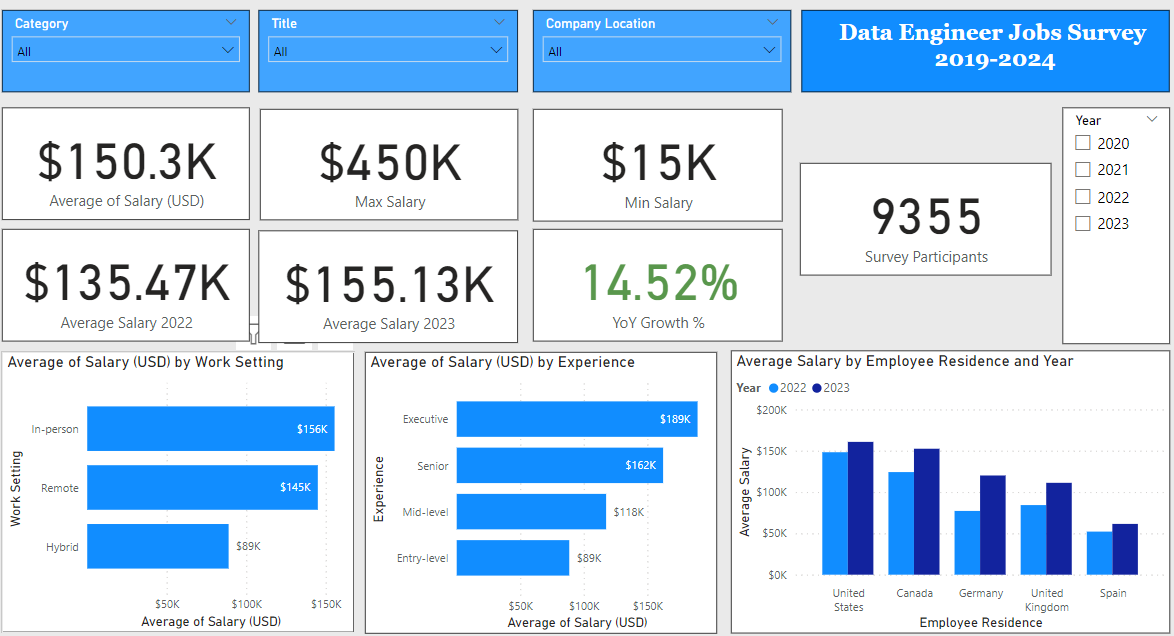

Layout of this report page (visuals, bound fields, positions):
{"tool":"powerbi","page":{"name":"KPI Dashboard","canvas":[1280,720],"ordinal":0},"visuals":[{"type":"slicer","fields":{"Values":["jobs_in_data.Category"]},"box":[10,28.6,267.1,88.6],"z":0},{"type":"slicer","fields":{"Values":["jobs_in_data.Title"]},"box":[287.1,28.6,280,88.6],"z":1000},{"type":"slicer","fields":{"Values":["jobs_in_data.Company Location"]},"box":[582.9,28.6,278.6,88.6],"z":2000},{"type":"barChart","fields":{"Y":["Avg(jobs_in_data.Salary (USD))"],"Category":["jobs_in_data.Work Setting"]},"box":[10,398.6,380,302.9],"z":3000},{"type":"card","fields":{"Values":["Avg(jobs_in_data.Salary (USD))"]},"box":[10,134.3,267.1,121.4],"z":4000},{"type":"card","fields":{"Values":["Measures (2).Max Salary"]},"box":[288,136.5,278.7,119.7],"z":5000},{"type":"clusteredColumnChart","fields":{"Category":["jobs_in_data.employee_residence"],"Y":["Measures (2).Average Salary"],"Series":["jobs_in_data.Year"]},"box":[796.2,397.5,473.8,305],"z":6000},{"type":"barChart","fields":{"Y":["Avg(jobs_in_data.Salary (USD))"],"Category":["jobs_in_data.Experience"]},"box":[402,398,380,304],"z":7000},{"type":"card","fields":{"Values":["Measures (2).Min Salary"]},"box":[583.6,136.5,269.3,121.6],"z":8000},{"type":"card","fields":{"Values":["Measures (2).Salary LY"]},"box":[10,265.7,267.1,121.4],"z":10000},{"type":"card","fields":{"Values":["Measures (2).Salary CY"]},"box":[287.1,267.1,280,121.4],"z":11000},{"type":"card","fields":{"Values":["Measures (2).YoY Growth %"]},"box":[583.6,265.6,269.3,121.6],"z":12000},{"type":"textbox","box":[872.5,28.8,397.5,88.8],"z":13000},{"type":"card","fields":{"Values":["Measures (2).Survey Participants"]},"box":[871.6,194.5,271.2,121.6],"z":14000},{"type":"slicer","fields":{"Values":["jobs_in_data.Year"]},"box":[1153.8,133.8,116.2,255],"z":15000}]}

Visuals, with their boxes on the page's 1280x720 design canvas (x1, y1, x2, y2). These are canvas units, not pixel positions in the 1174x636 screenshot, which may show the page scaled, cropped or inside an application window:
slicer - jobs_in_data.Category: (10,29,277,117)
slicer - jobs_in_data.Title: (287,29,567,117)
slicer - jobs_in_data.Company Location: (583,29,862,117)
barChart - Avg(jobs_in_data.Salary (USD)) x jobs_in_data.Work Setting: (10,399,390,702)
card - Avg(jobs_in_data.Salary (USD)): (10,134,277,256)
card - Measures (2).Max Salary: (288,136,567,256)
clusteredColumnChart - jobs_in_data.employee_residence x Measures (2).Average Salary: (796,398,1270,702)
barChart - Avg(jobs_in_data.Salary (USD)) x jobs_in_data.Experience: (402,398,782,702)
card - Measures (2).Min Salary: (584,136,853,258)
card - Measures (2).Salary LY: (10,266,277,387)
card - Measures (2).Salary CY: (287,267,567,388)
card - Measures (2).YoY Growth %: (584,266,853,387)
textbox: (872,29,1270,118)
card - Measures (2).Survey Participants: (872,194,1143,316)
slicer - jobs_in_data.Year: (1154,134,1270,389)
